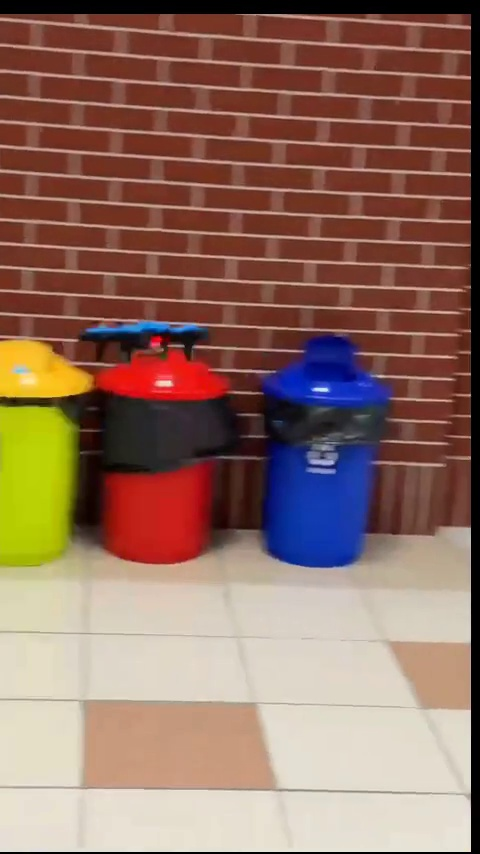drone: (78, 314, 205, 359)
